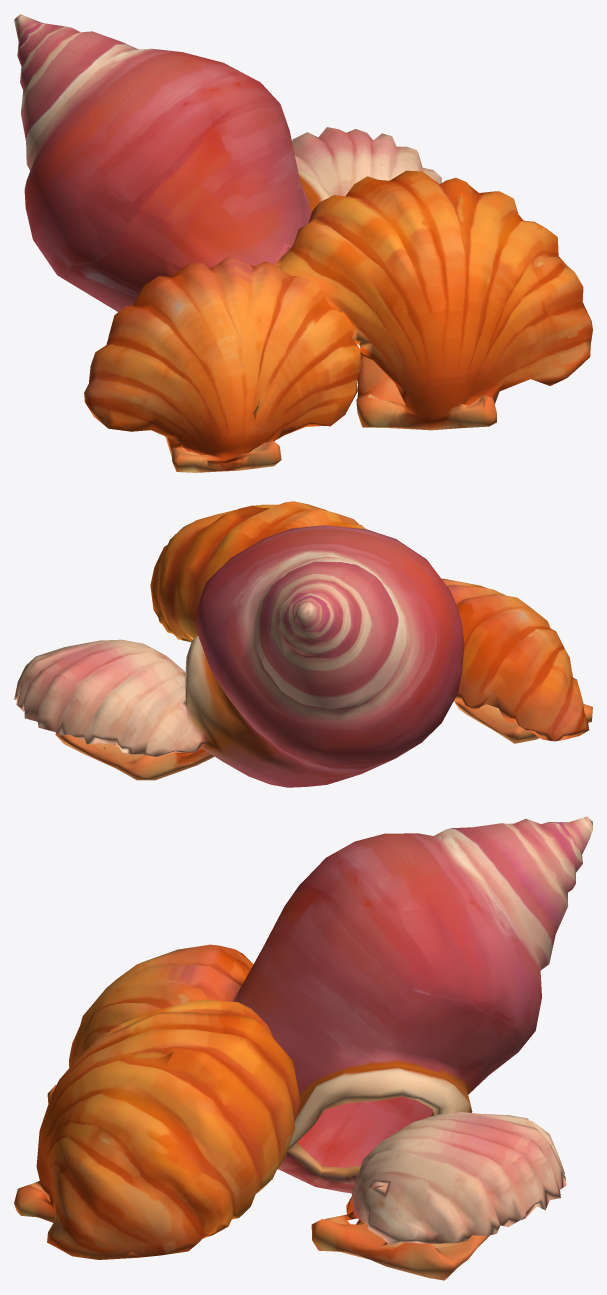
The model's file is shell_cluster.glb.
3 views of the same model, one above another, from view 1: azimuth 30°, elevation 25°; view 2: azimuth 150°, elevation 25°; view 3: azimuth 270°, elevation 25° (orthographic). The views are drawn at different scales.
Visible parts, largest first — view 1: world; view 2: world; view 3: world.
Boxes of the visible parts, left/top/right/bottom form: world: left=14, top=14, right=592, bottom=472; world: left=14, top=501, right=592, bottom=787; world: left=14, top=816, right=592, bottom=1280.
Bounding box in the file's own units: 0.997 × 0.5937 × 0.995.
1 material, 1 textured.
